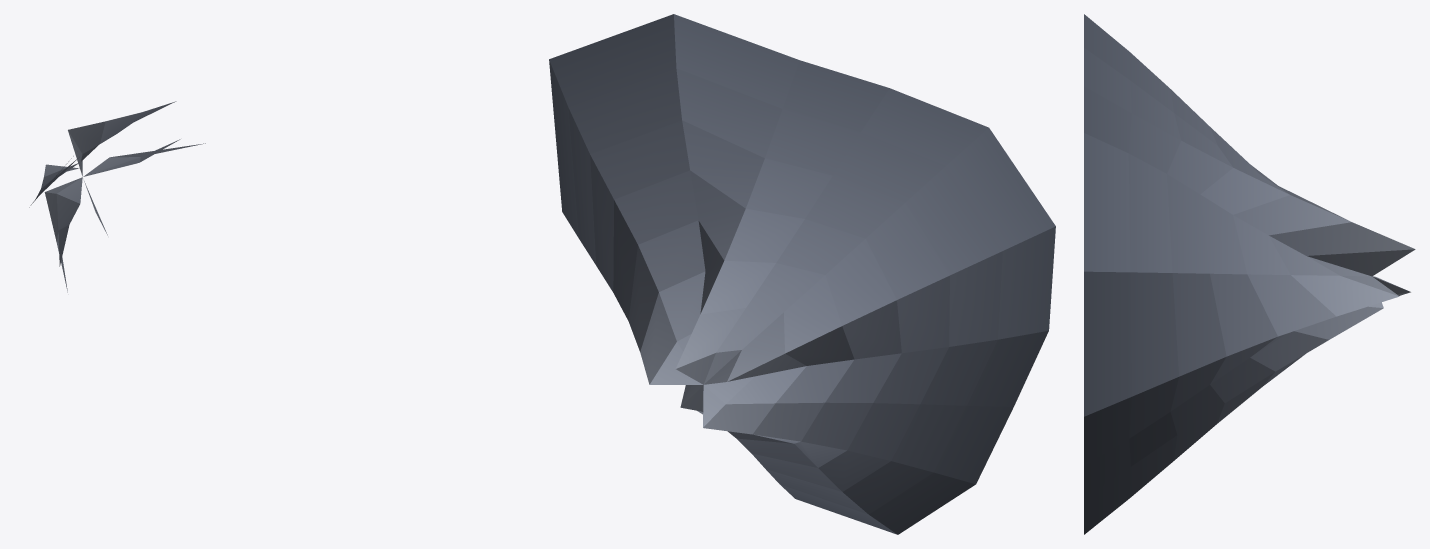
Rendered from rock_shore_b.glb.
3 views of the same model, side by side, from view 1: azimuth 30°, elevation 25°; view 2: azimuth 150°, elevation 25°; view 3: azimuth 270°, elevation 25° (orthographic).
Parts seen in each view (by area): view 1: rock_shore_b; view 2: rock_shore_b; view 3: rock_shore_b.
Part boxes in pixels (<box>): rock_shore_b: <box>29,101,205,292</box>; rock_shore_b: <box>549,14,1055,534</box>; rock_shore_b: <box>1084,14,1415,534</box>.
Bounding box in the file's own units: 0.9078 × 0.7979 × 0.5067.
